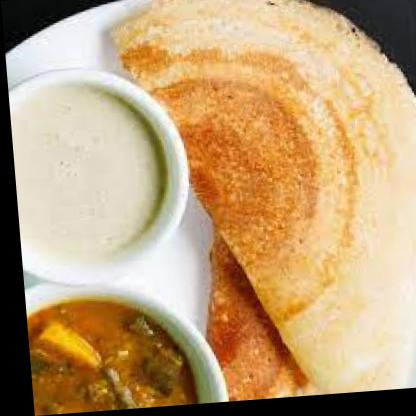dosa: (106, 0, 416, 410), (191, 215, 409, 406)
